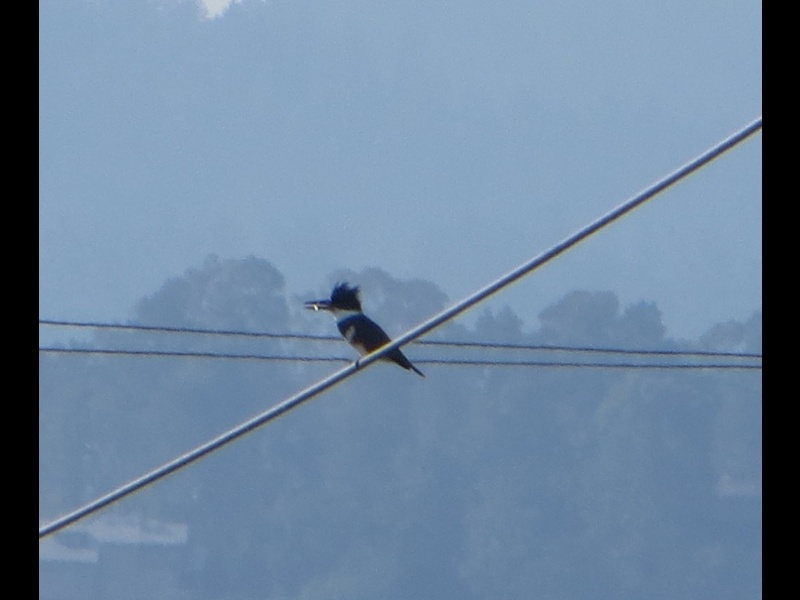kingfisher: (304, 281, 427, 379)
